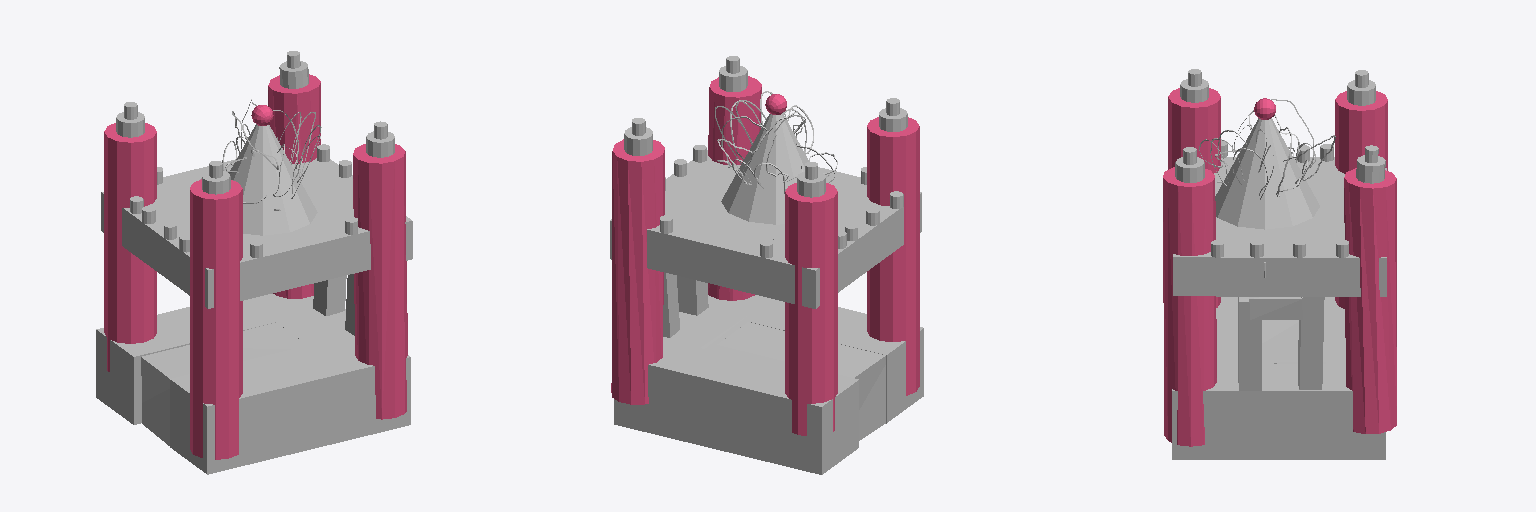
Rendered from gingerbread_parthenon.obj.
3 views of the same model, side by side, from view 1: azimuth 30°, elevation 25°; view 2: azimuth 150°, elevation 25°; view 3: azimuth 270°, elevation 25° (orthographic).
Visible parts, largest first — view 1: group[number redacted], group[number redacted], group[number redacted], group[number redacted], group[number redacted], group[number redacted], group[number redacted], group[number redacted], group[number redacted], group[number redacted], group[number redacted], group[number redacted] (+11 smaller); view 2: group[number redacted], group[number redacted], group[number redacted], group[number redacted], group[number redacted], group[number redacted], group[number redacted], group[number redacted], group[number redacted], group[number redacted], group[number redacted], group[number redacted] (+15 smaller); view 3: group[number redacted], group[number redacted], group[number redacted], group[number redacted], group[number redacted], group[number redacted], group[number redacted], group[number redacted], group[number redacted], group[number redacted], group[number redacted], group[number redacted] (+13 smaller).
Boxes of the visible parts, x1,y1,x2,y2 form: group[number redacted]: [190, 179, 242, 459]; group[number redacted]: [353, 144, 407, 419]; group[number redacted]: [104, 123, 156, 371]; group[number redacted]: [187, 214, 412, 308]; group[number redacted]: [229, 124, 317, 235]; group[number redacted]: [170, 369, 272, 474]; group[number redacted]: [266, 343, 356, 453]; group[number redacted]: [141, 315, 318, 445]; group[number redacted]: [96, 319, 189, 424]; group[number redacted]: [268, 74, 320, 298]; group[number redacted]: [312, 335, 410, 440]; group[number redacted]: [239, 356, 303, 466]; group[number redacted]: [611, 139, 664, 404]; group[number redacted]: [785, 183, 837, 435]; group[number redacted]: [867, 117, 919, 395]; group[number redacted]: [610, 213, 819, 308]; group[number redacted]: [757, 371, 858, 474]; group[number redacted]: [713, 353, 784, 458]; group[number redacted]: [721, 113, 808, 224]; group[number redacted]: [648, 338, 749, 448]; group[number redacted]: [701, 316, 885, 440]; group[number redacted]: [708, 76, 761, 300]; group[number redacted]: [838, 312, 923, 423]; group[number redacted]: [665, 192, 857, 292]; group[number redacted]: [1344, 168, 1396, 433]; group[number redacted]: [1163, 167, 1216, 446]; group[number redacted]: [1215, 118, 1319, 229]; group[number redacted]: [1248, 360, 1322, 459]; group[number redacted]: [1302, 157, 1343, 296]; group[number redacted]: [1172, 360, 1247, 459]; group[number redacted]: [1311, 360, 1385, 459]; group[number redacted]: [1335, 91, 1387, 308]; group[number redacted]: [1168, 88, 1220, 307]; group[number redacted]: [1216, 157, 1258, 296]; group[number redacted]: [1259, 158, 1301, 296]; group[number redacted]: [1298, 297, 1324, 389].
Size of the model in its own units: 1.45 by 2.01 by 1.37.